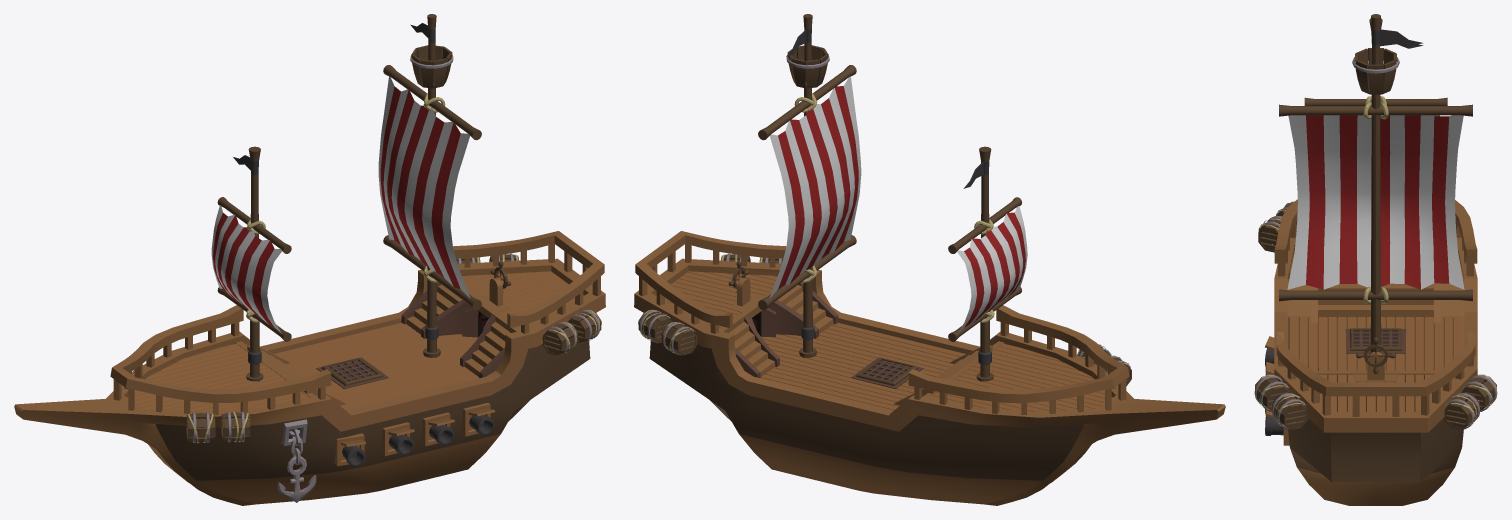
Rendered from BarcoFinalA2.fbx.
3 views of the same model, side by side, from view 1: azimuth 30°, elevation 25°; view 2: azimuth 150°, elevation 25°; view 3: azimuth 270°, elevation 25° (orthographic). The views are drawn at different scales.
Visible parts, largest first — view 1: Ship_Large; view 2: Ship_Large; view 3: Ship_Large.
Boxes of the visible parts, box(x1,y1,x2,y2) form: Ship_Large: box(14, 14, 605, 505); Ship_Large: box(634, 14, 1225, 505); Ship_Large: box(1254, 14, 1497, 505).
Size of the model in its own units: 2362 by 1757 by 811.
Materials: 5 (1 with a texture image).
